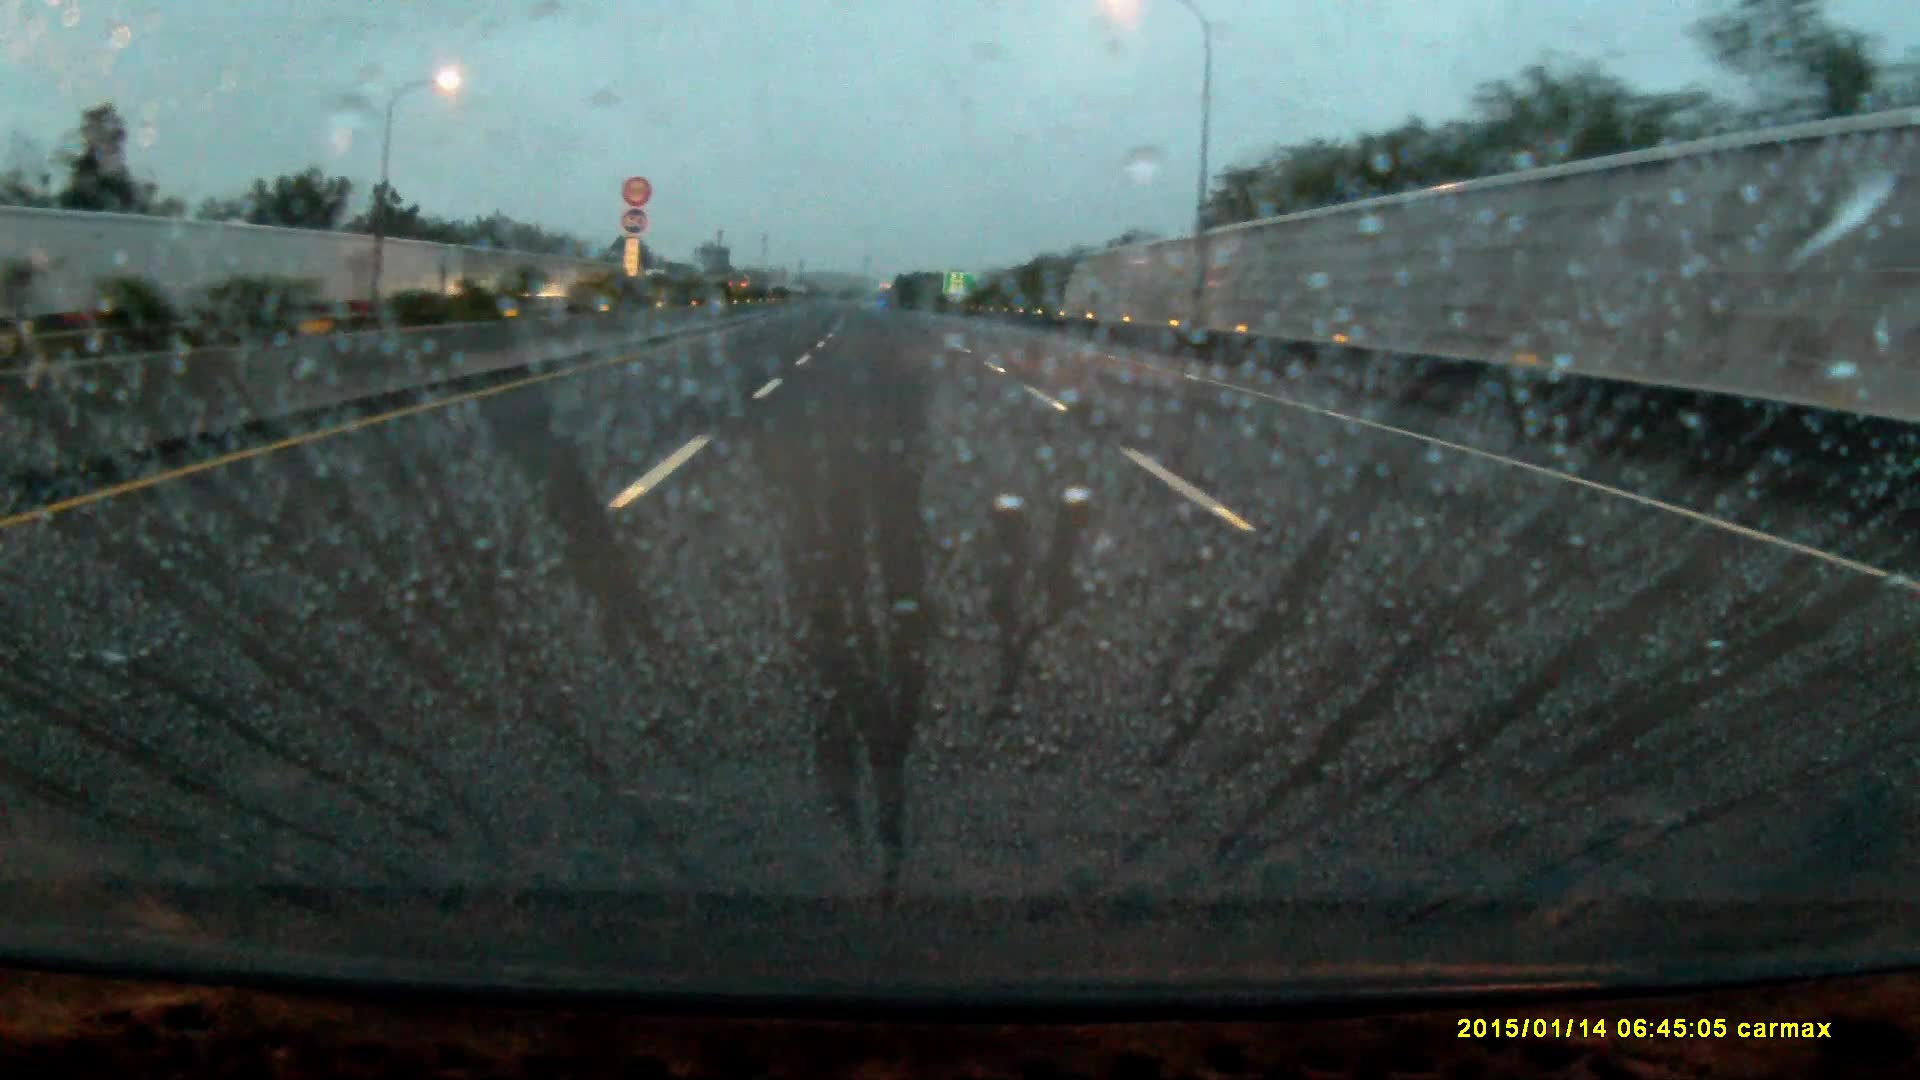vehicle: (727, 274, 753, 301)
